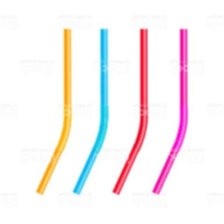drinking_straw: (101, 25, 153, 196), (31, 25, 77, 198), (149, 25, 193, 198), (69, 25, 112, 198)
